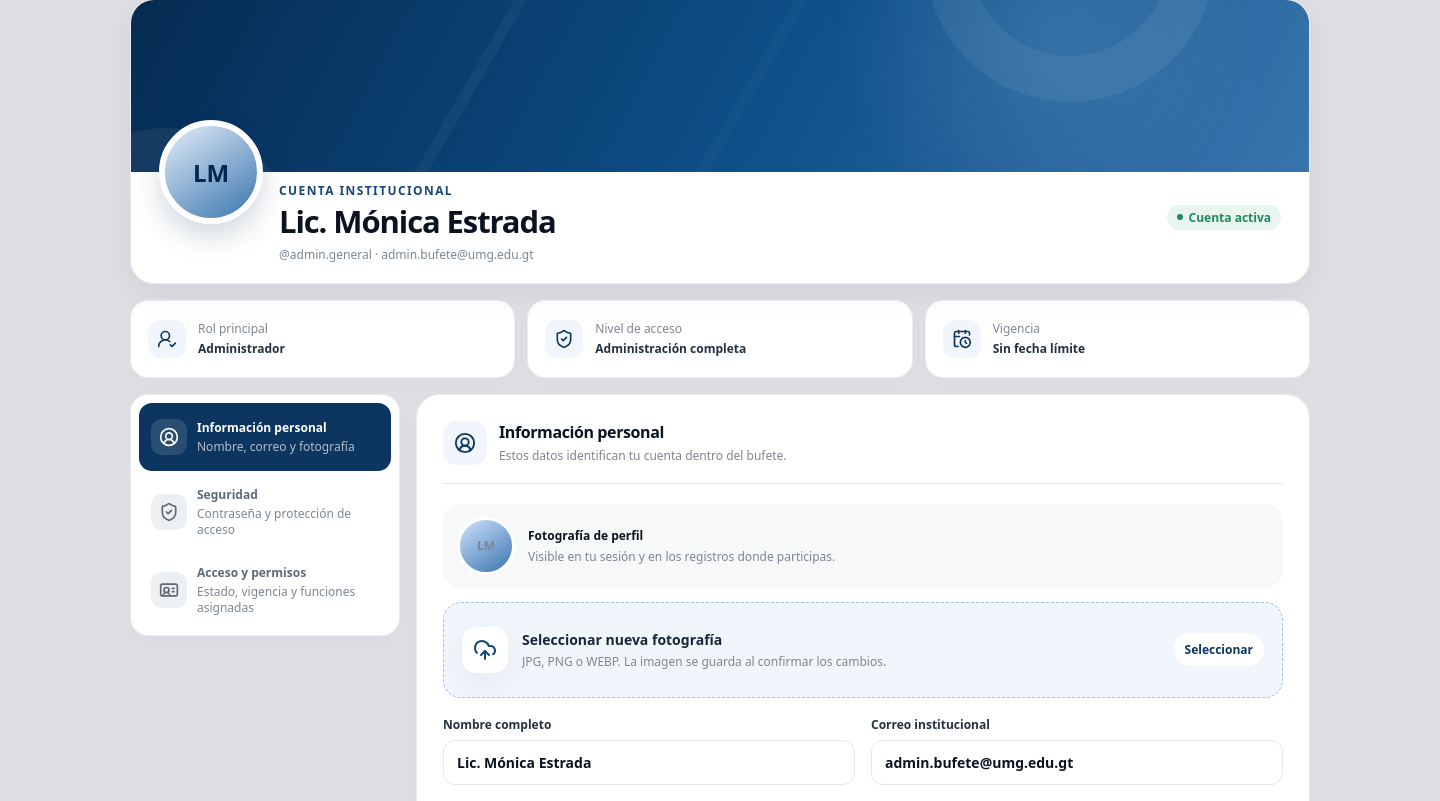
módulo de cuenta › mantiene deshabilitado el guardado cuando no hay cambios
Replace the text in the field labelled "Nombre completo" with "Mónica Estrada" at (649, 762), box [443,740,855,785]
(page scrolled)
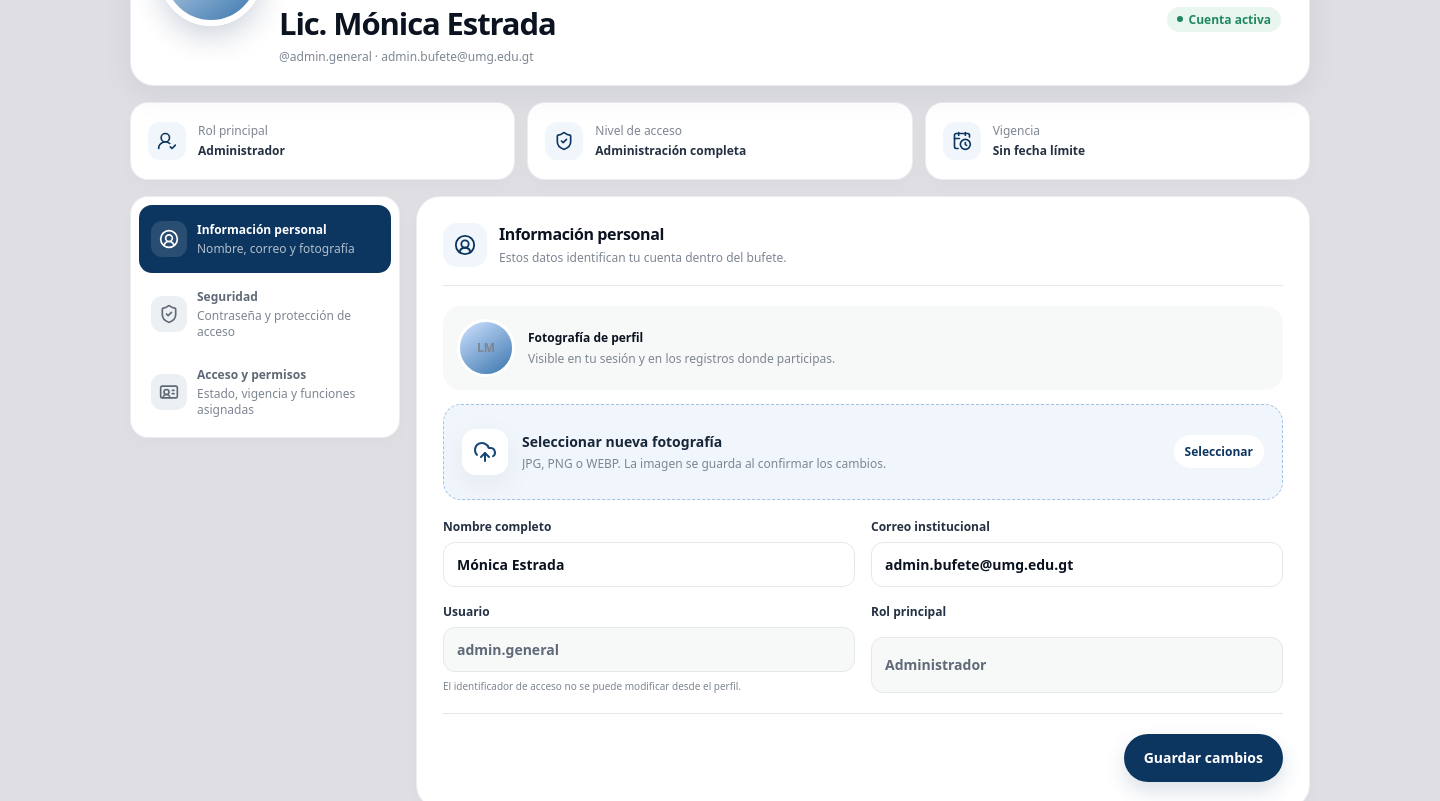
Now the button "Guardar cambios" is enabled, box [1124,734,1283,782]
